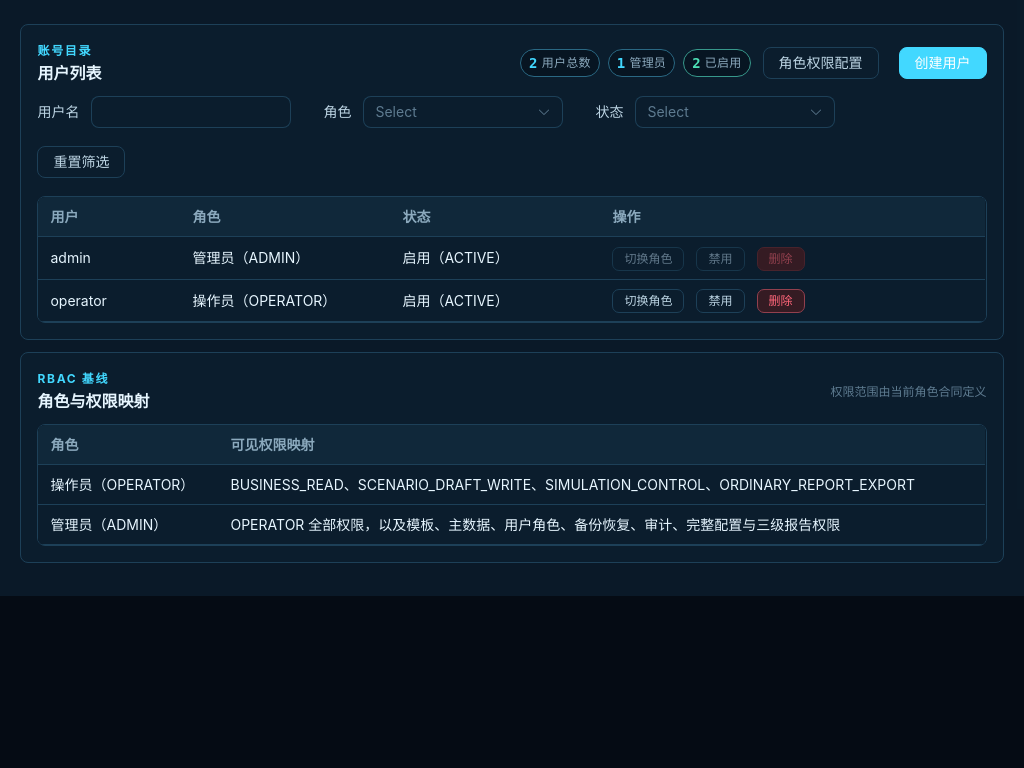
it: P1 authentication and routing › rejects a username with surrounding whitespace before creating:  worker
Click the button with test id "open-create-user" at [942, 63], box [898,47,986,79]
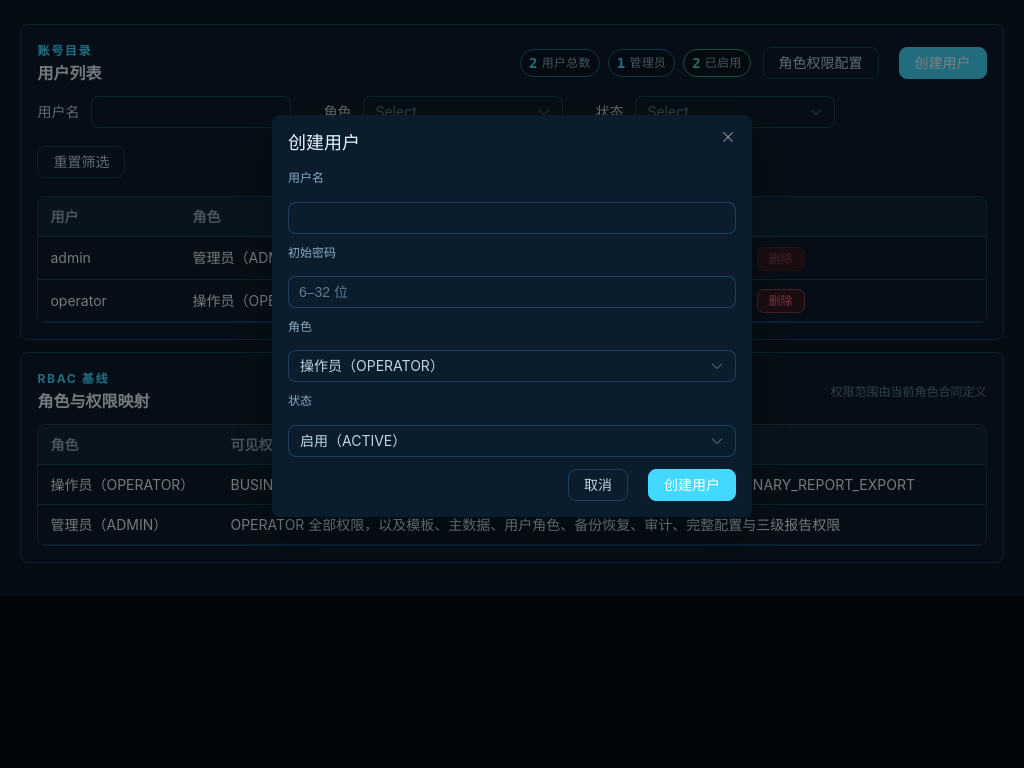
Type " worker" into the field with test id "create-username" at [512, 218], box [299,203,725,233]
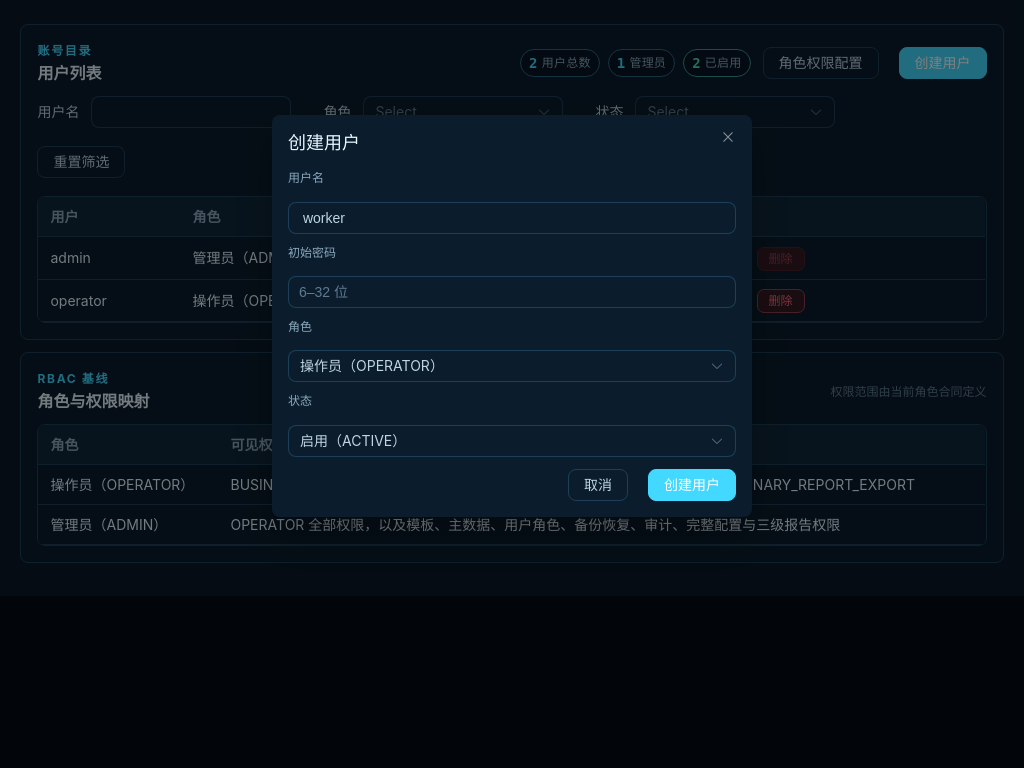
Type "123456" into the password field with test id "create-password" at [512, 292], box [299,277,725,307]
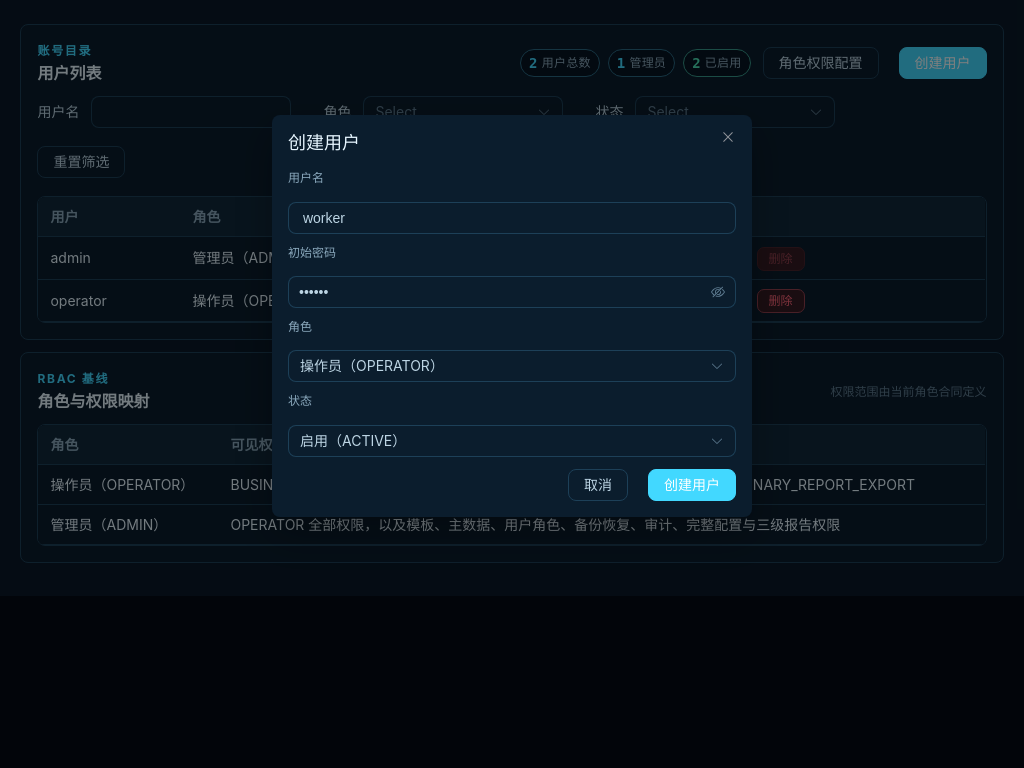
Submit the form with class "create-form", box [288,171,736,501]
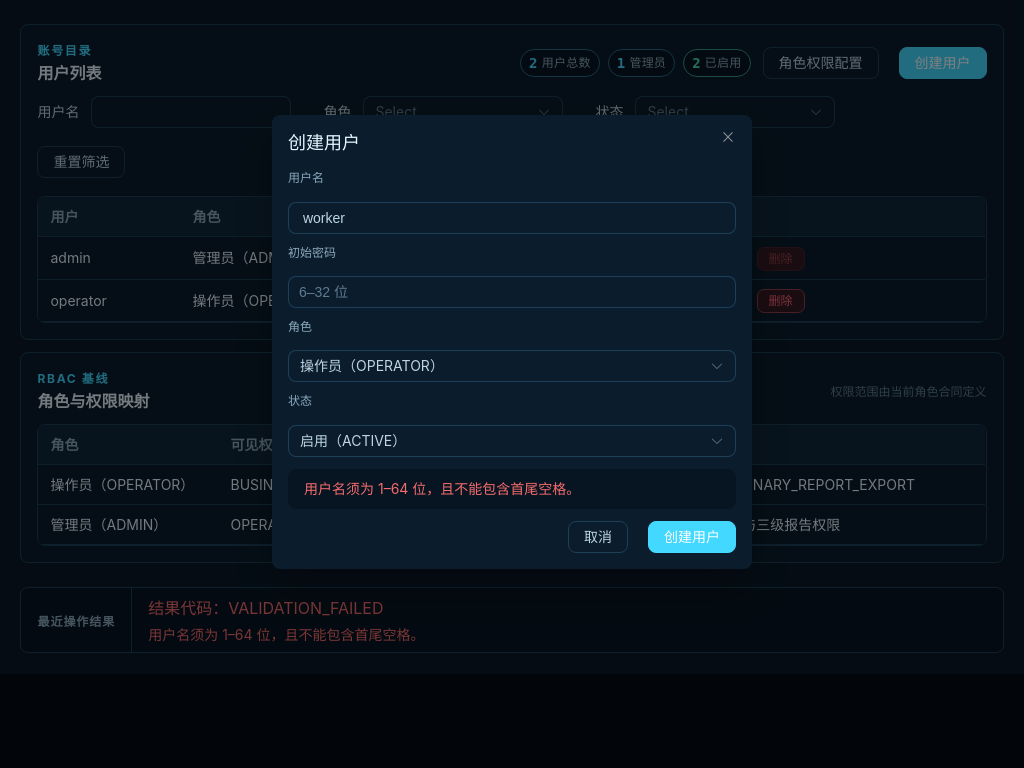
Expected: the element with test id "create-user-error" shows "不能包含首尾空格", [304,480,580,497]
